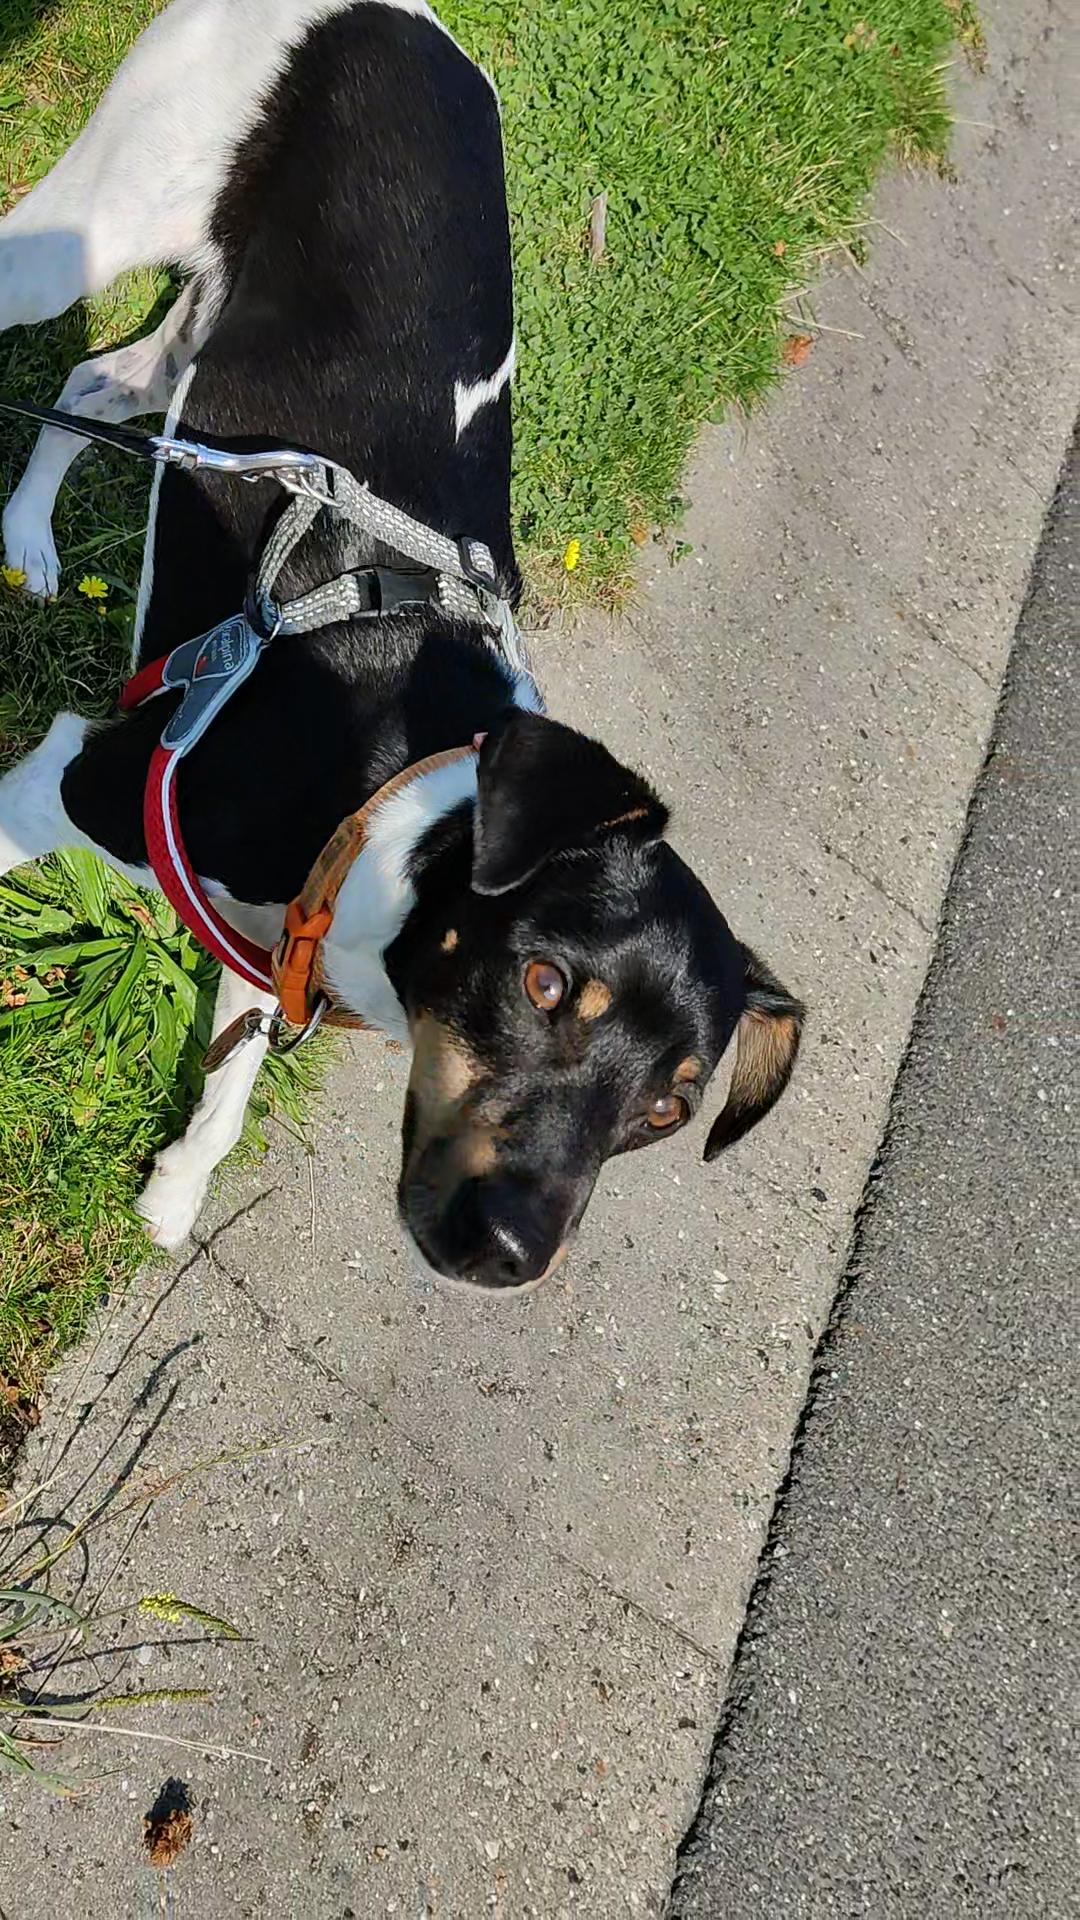Dog: (0, 0, 832, 1295)
